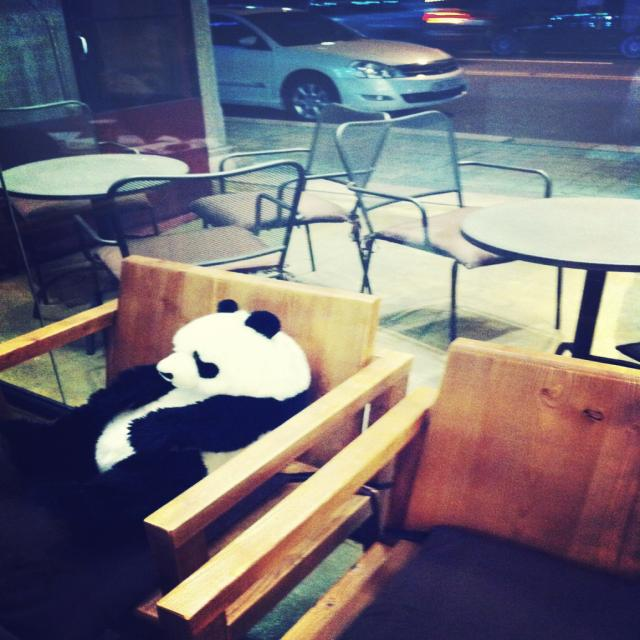panda: (0, 299, 319, 639)
